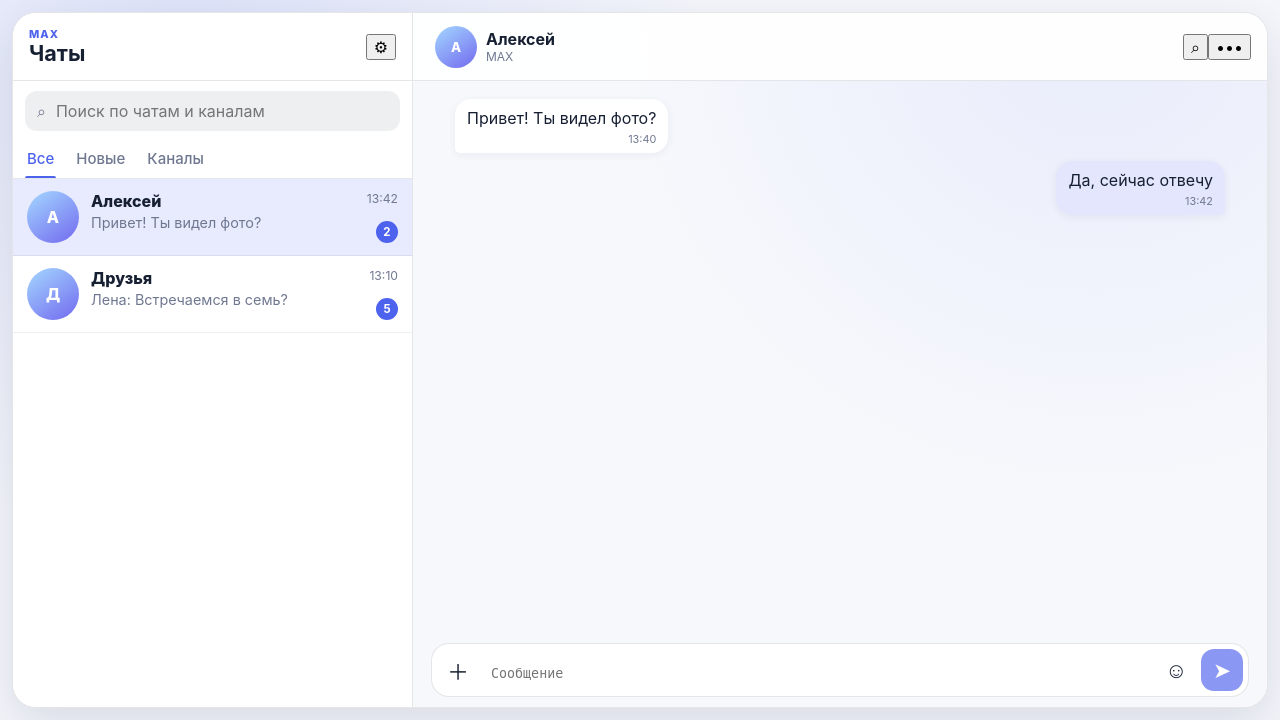
Test: narrow messenger gestures › pages back to the previous folder with a right swipe
Press the mouse on the element with test id "messenger-surface" at (640, 360), box left=0, top=0, right=1279, bottom=719
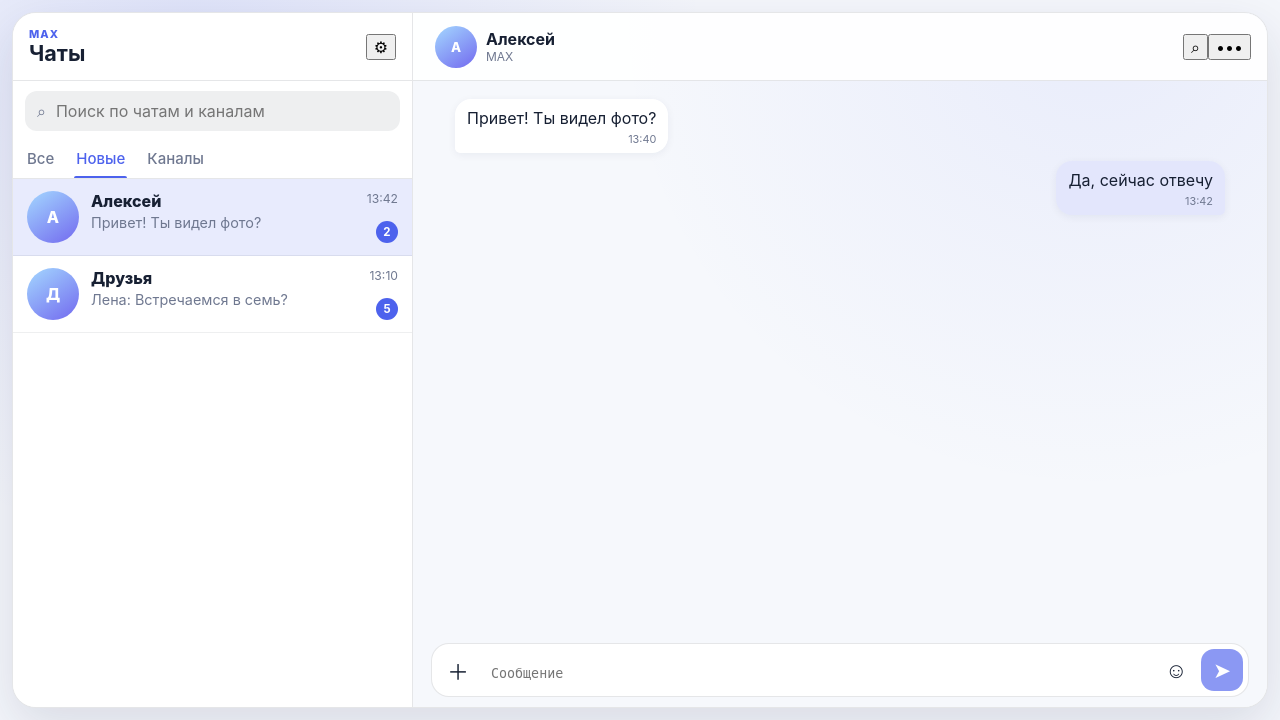
Press the mouse on the element with test id "messenger-surface" at (640, 360), box left=0, top=0, right=1279, bottom=719
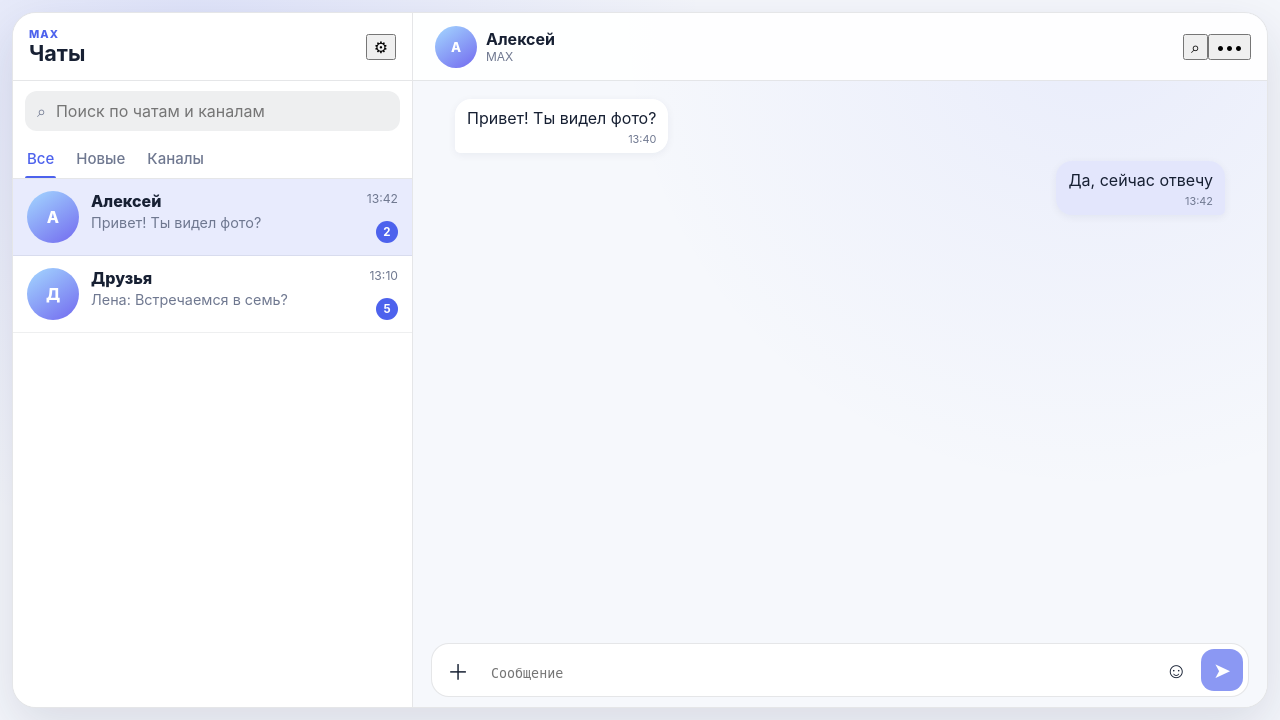
Expected: the tab "Все" is selected, left=25, top=141, right=56, bottom=178
